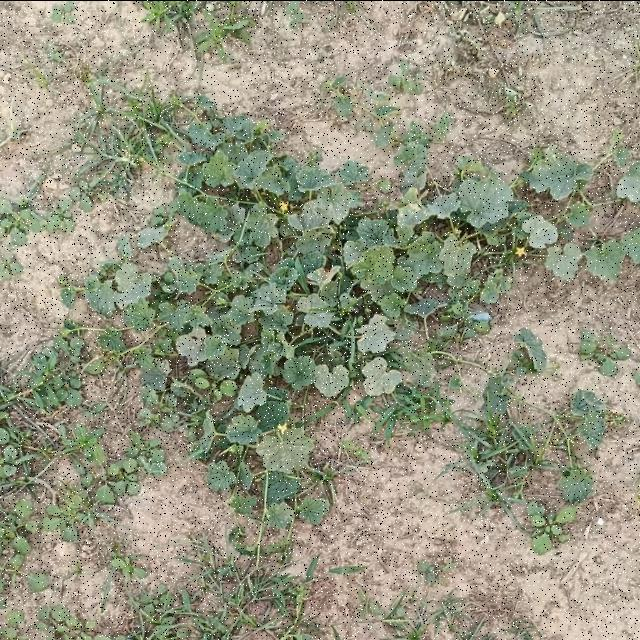plant: (63, 109, 637, 531)
